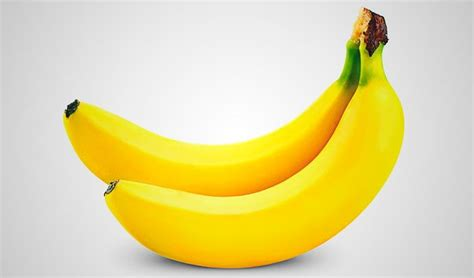banana: (98, 76, 408, 271), (60, 73, 364, 191)
